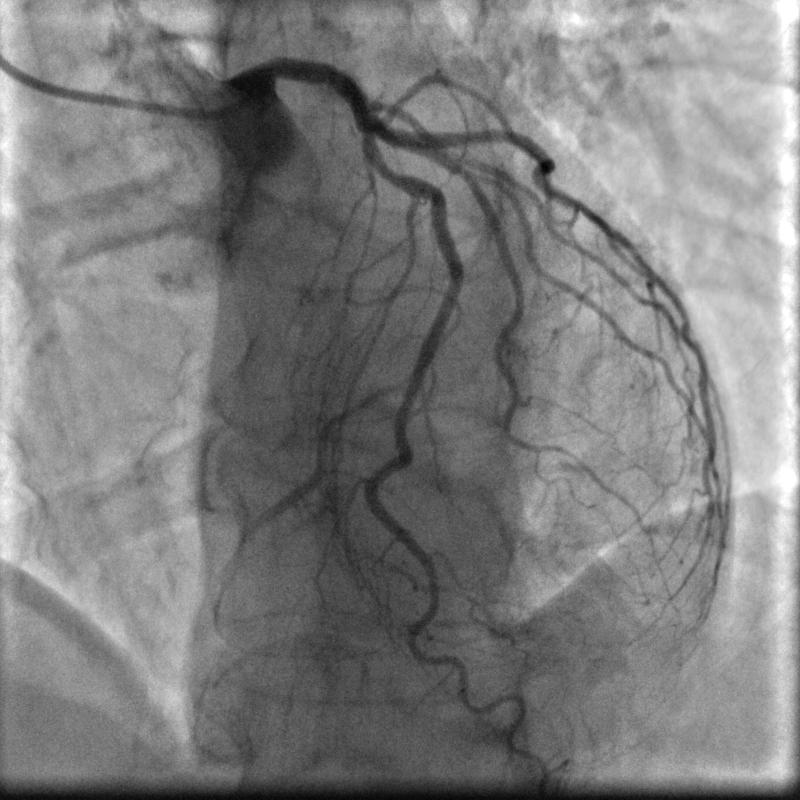Stenosis: (372, 160, 403, 180)
